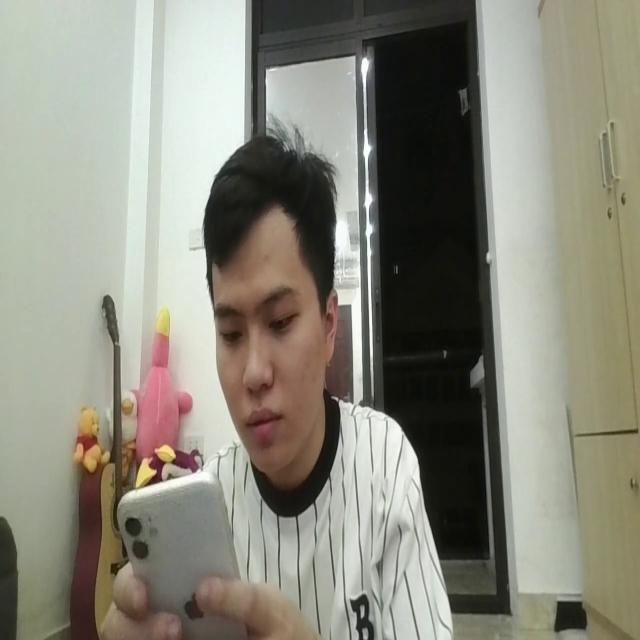phone: (118, 468, 244, 640)
student: (104, 124, 450, 640)
